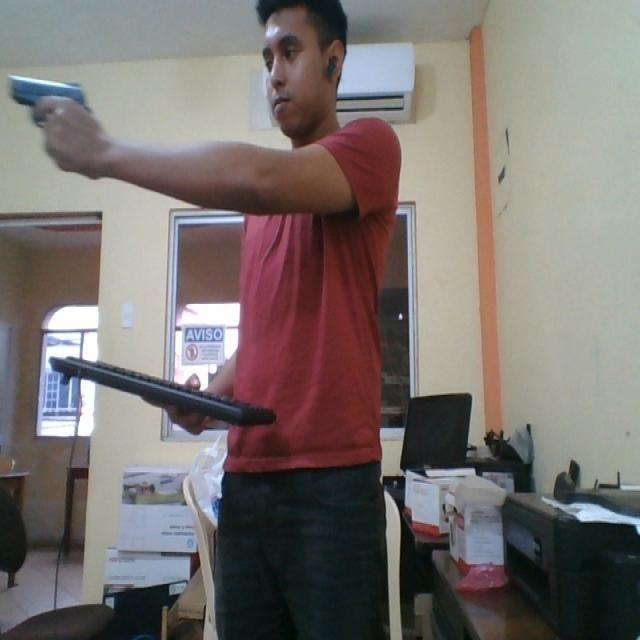weapon: (4, 68, 95, 130)
